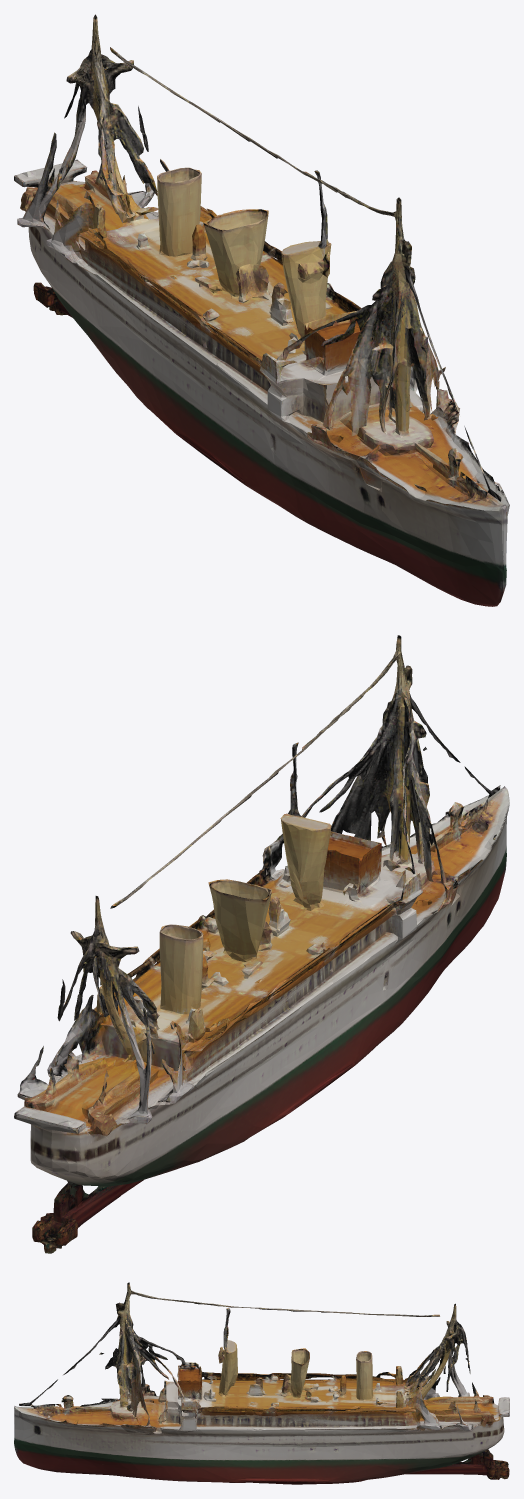
The model's file is empress_trellis_web.glb.
3 renders of one model, top to bottom at view 1: azimuth 30°, elevation 25°; view 2: azimuth 150°, elevation 25°; view 3: azimuth 270°, elevation 25°, orthographic. The views are drawn at different scales.
Parts seen in each view (by area): view 1: geometry_0; view 2: geometry_0; view 3: geometry_0.
Boxes of the visible parts, x1,y1,x2,y2 form: geometry_0: (14,14,509,606); geometry_0: (14,635,509,1253); geometry_0: (14,1282,509,1484).
Bounding box in the file's own units: 0.1886 × 0.4459 × 1.
1 material, 1 textured.
